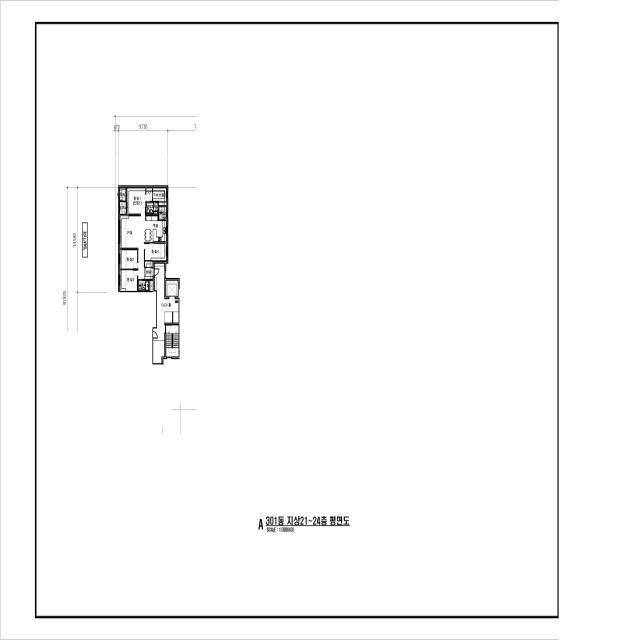background: (1, 0, 639, 640)
space_balconi: (120, 202, 126, 214)
space_bedroom: (127, 189, 152, 214), (120, 270, 137, 291), (145, 243, 166, 260), (120, 250, 137, 269)
space_dressroom: (153, 189, 166, 201)
space_elevator: (166, 281, 178, 296)
space_elevator_hall: (153, 264, 179, 363)
space_front: (144, 268, 154, 279)
space_kitchen: (145, 216, 166, 242)
space_living_room: (120, 216, 145, 279)
space_other: (159, 207, 166, 220), (145, 262, 152, 267), (150, 281, 153, 291), (159, 203, 166, 205)
space_outdoor_room: (120, 188, 126, 201)
space_staircase: (166, 326, 179, 357)
space_toilet: (146, 203, 157, 214), (138, 281, 149, 291)
